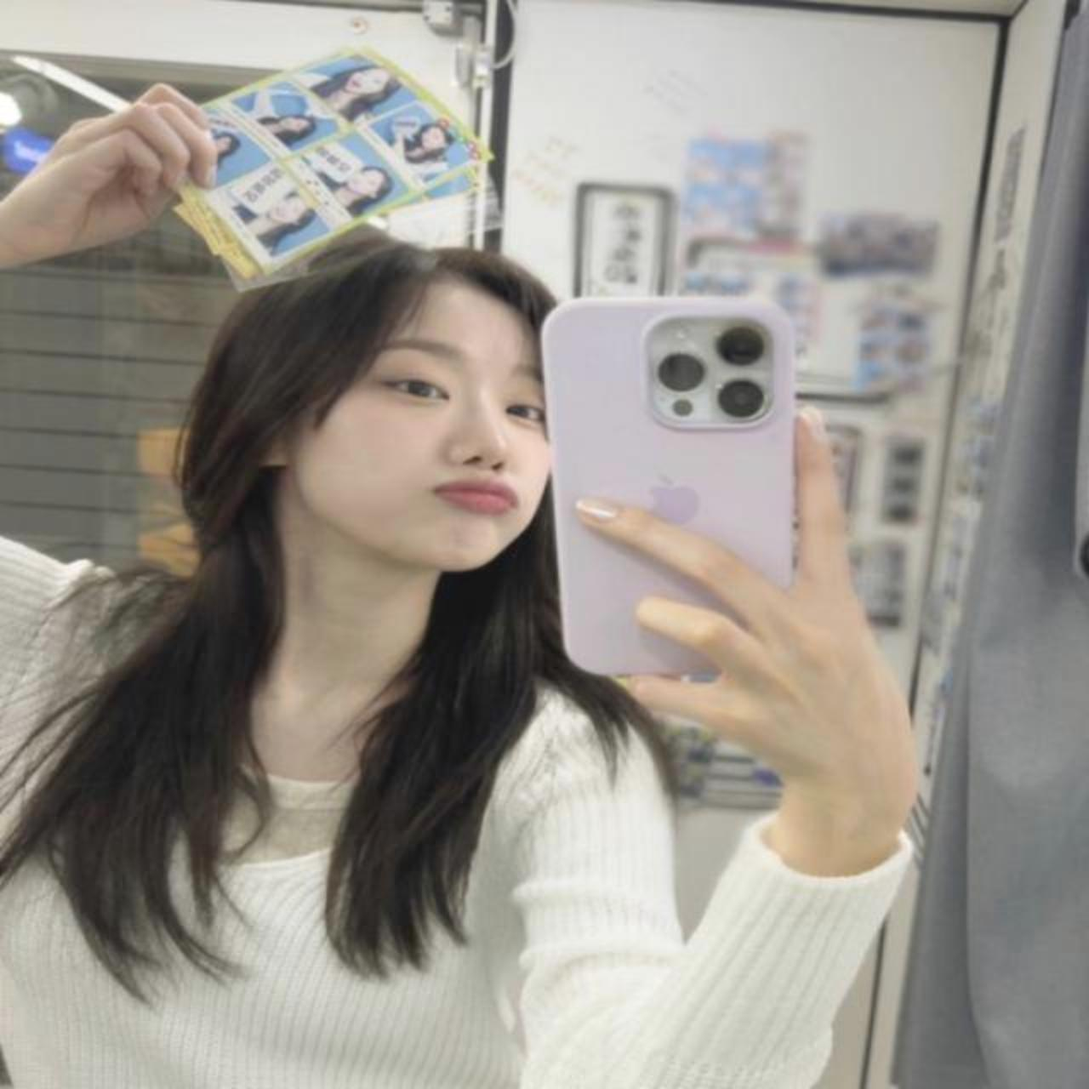phone: (539, 301, 805, 679)
